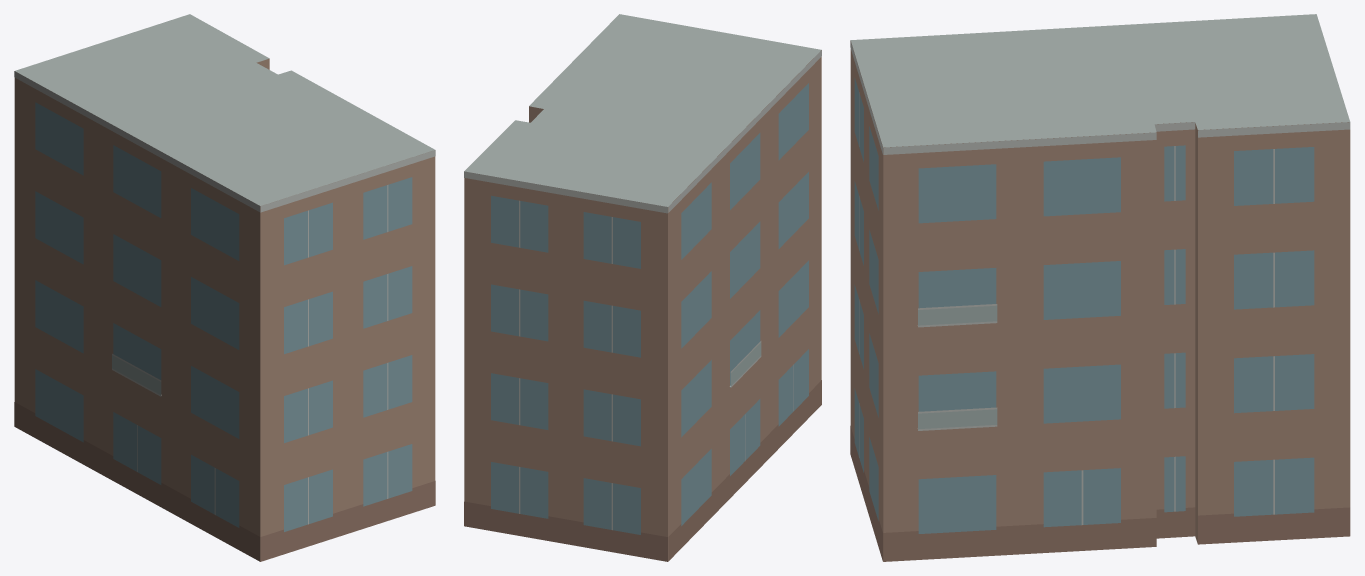
File: survey-upis-32527379.glb
The picture shows the model from 3 angles, left to right: view 1: azimuth 30°, elevation 25°; view 2: azimuth 150°, elevation 25°; view 3: azimuth 270°, elevation 25°; orthographic projection. The views are drawn at different scales.
Parts seen in each view (by area): view 1: survey-upis-32527379.tmp; view 2: survey-upis-32527379.tmp; view 3: survey-upis-32527379.tmp.
Part boxes in pixels (<box>): survey-upis-32527379.tmp: <box>14,14,435,561</box>; survey-upis-32527379.tmp: <box>464,14,821,561</box>; survey-upis-32527379.tmp: <box>850,14,1350,561</box>.
Bounding box in the file's own units: 9.27 × 13.4 × 14.66.
